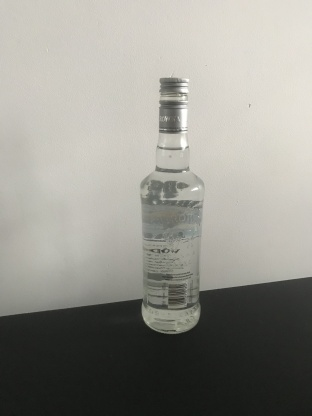nakretka: (157, 76, 189, 133)
